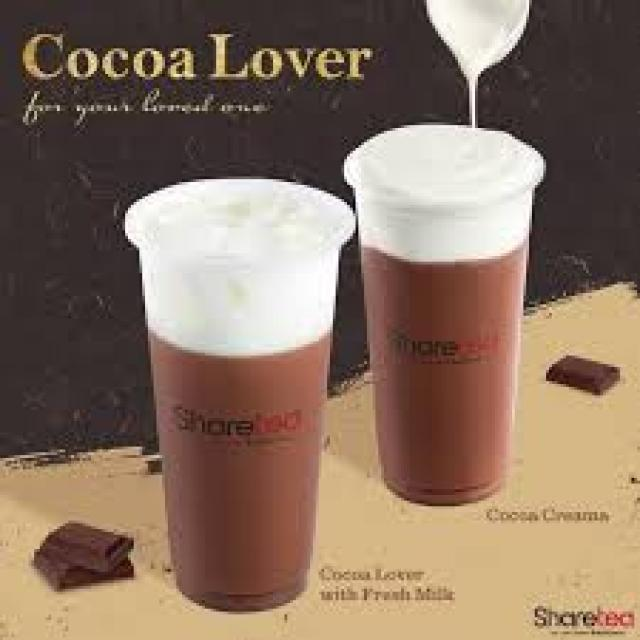cup: (125, 182, 355, 609), (345, 125, 545, 503)
